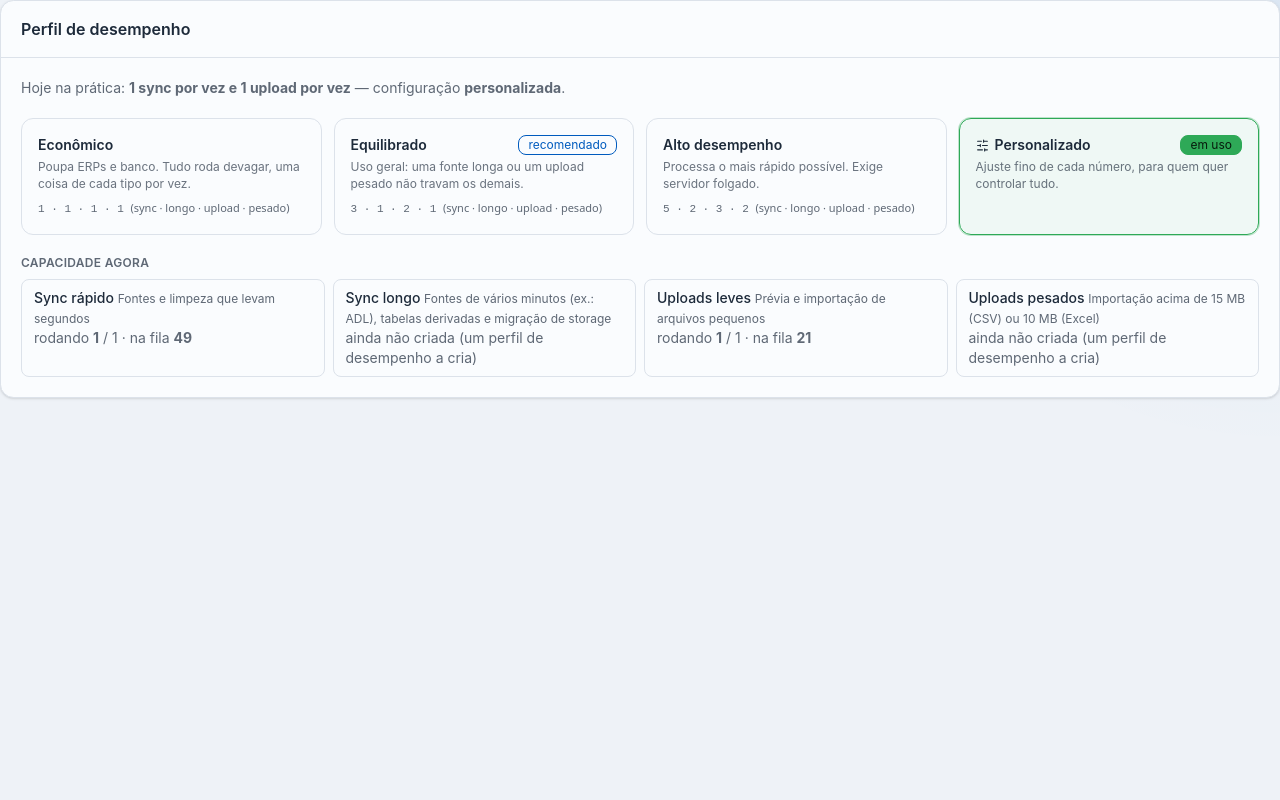
Test case: WorkerPresets › escolher um perfil mostra o que muda (hoje -> novo, e quando vale) e o efeito esperado
This screenshot has width=1280, height=800.
Click the button "Equilibrado".
click(484, 176)  # box [334,118,634,234]
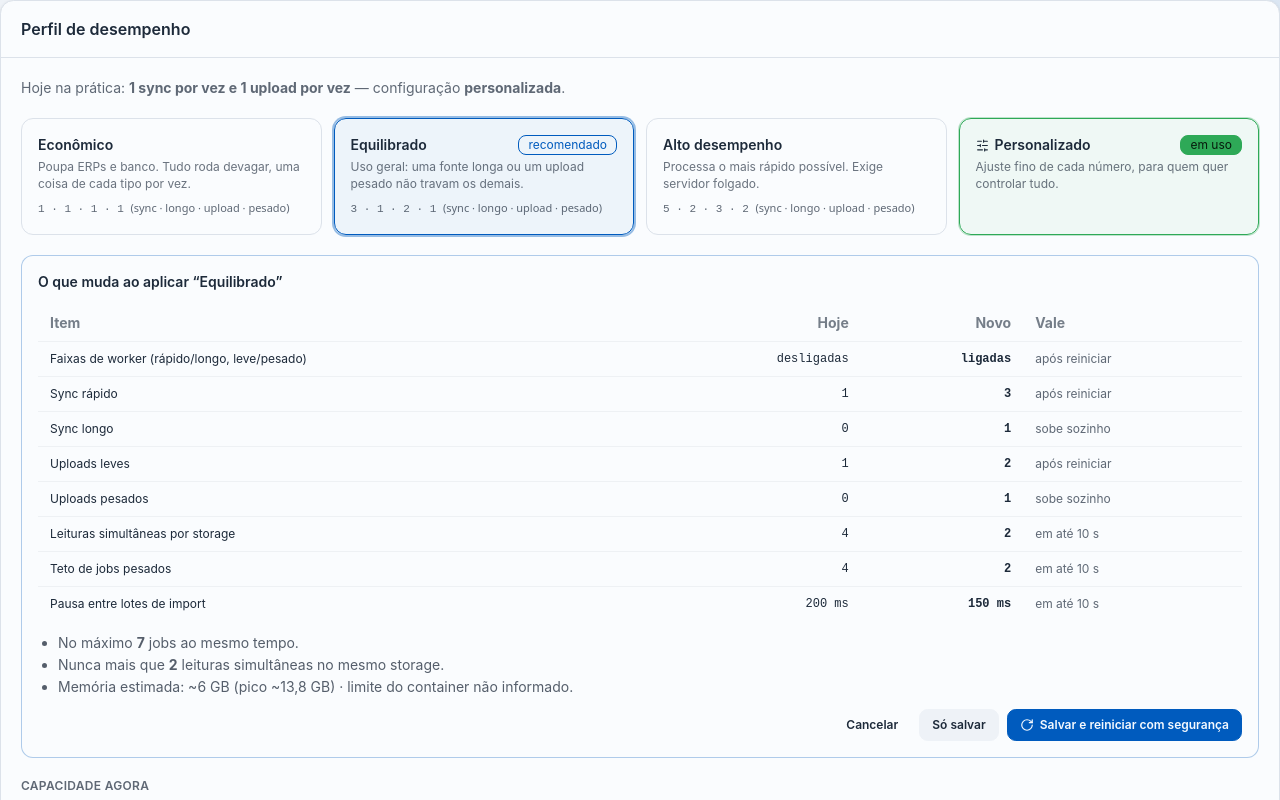
Now the heading "O que muda ao aplicar “Equilibrado”" is shown, box [38,272,283,290]
Now the text "Faixas de worker" shows "ligadas", box [961,352,1011,366]
Now the text "Sync rápido" shows "3", box [1004,386,1011,400]
